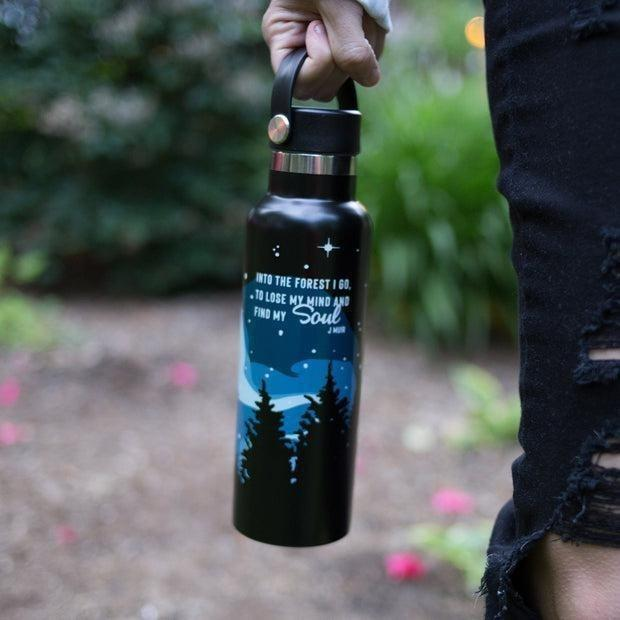gym bottle: (230, 48, 376, 551)
